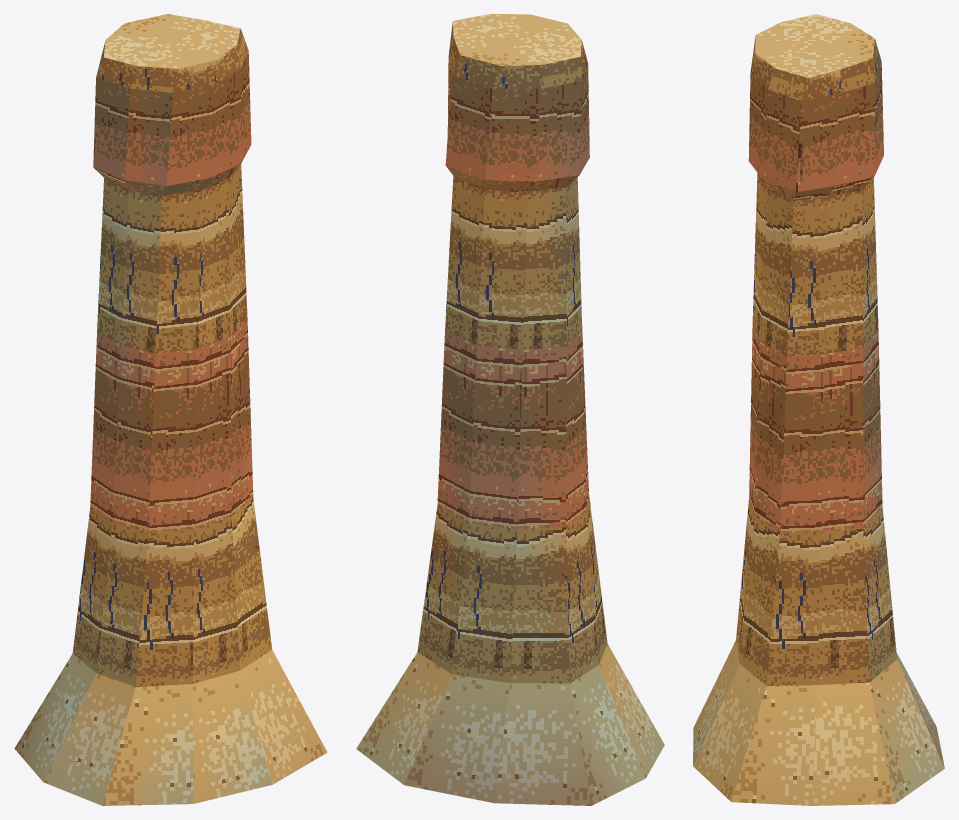
Rendered from wland.butte__slim.glb.
3 views of the same model, side by side, from view 1: azimuth 30°, elevation 25°; view 2: azimuth 150°, elevation 25°; view 3: azimuth 270°, elevation 25° (orthographic).
Parts seen in each view (by area): view 1: kit_butte; view 2: kit_butte; view 3: kit_butte.
Part boxes in pixels (<box>): kit_butte: <box>14,14,327,805</box>; kit_butte: <box>356,14,664,805</box>; kit_butte: <box>693,14,944,805</box>.
Bounding box in the file's own units: 6.69 × 18 × 5.86.
4 materials, 4 textured.
